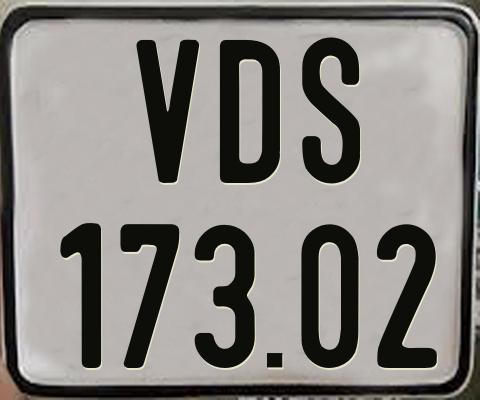0: (300, 224, 362, 374)
1: (58, 223, 100, 369)
2: (374, 221, 440, 365)
3: (194, 223, 258, 369)
7: (117, 224, 180, 369)
D: (220, 37, 282, 186)
S: (301, 34, 362, 183)
V: (133, 39, 196, 187)
